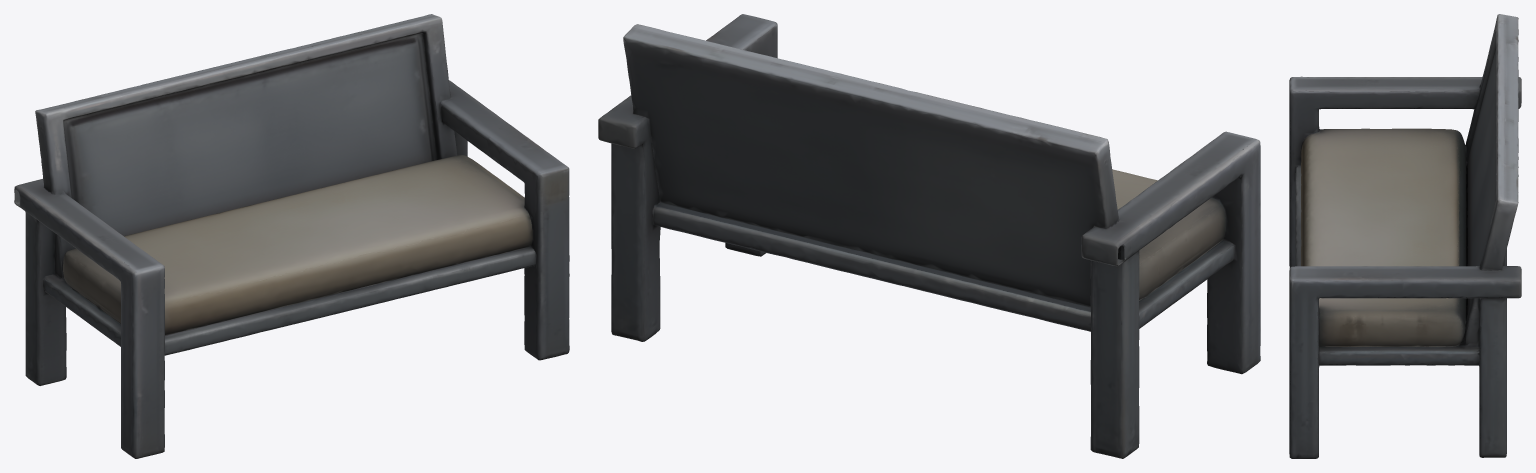
Rendered from foyer_SeatingBench.glb.
The picture shows the model from 3 angles, left to right: view 1: azimuth 30°, elevation 25°; view 2: azimuth 150°, elevation 25°; view 3: azimuth 270°, elevation 25°; orthographic projection. The views are drawn at different scales.
Parts seen in each view (by area): view 1: world; view 2: world; view 3: world.
Part boxes in pixels (x1,y1,x2,y2): world: (14, 14, 569, 458); world: (598, 14, 1260, 458); world: (1289, 14, 1521, 458).
Bounding box in the file's own units: 1 × 0.5755 × 0.4813.
1 material, 1 textured.
